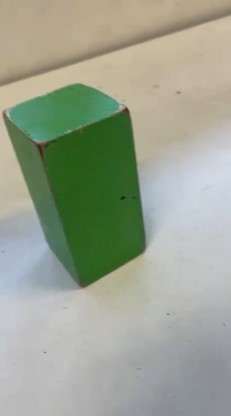green: (14, 69, 160, 286)
